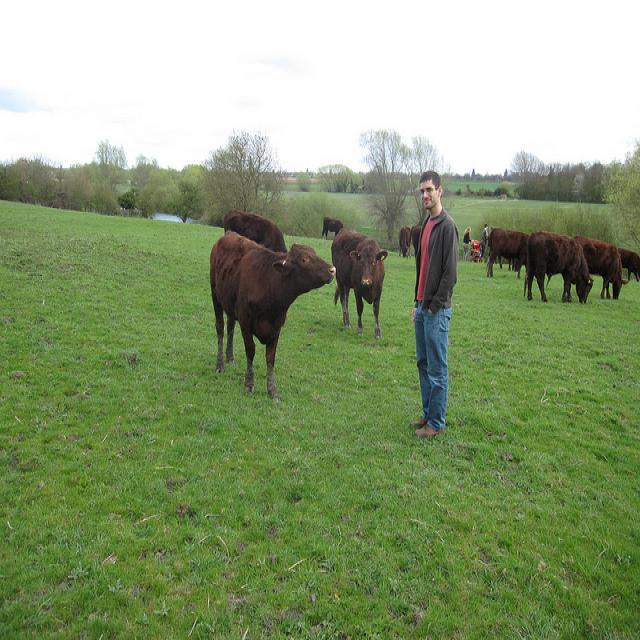cow: (207, 227, 335, 396), (329, 228, 386, 340), (525, 229, 592, 303), (574, 233, 628, 296), (221, 207, 285, 244), (485, 226, 529, 278), (616, 246, 639, 282), (320, 215, 342, 239), (397, 224, 410, 256), (409, 223, 421, 257), (496, 254, 513, 270)
